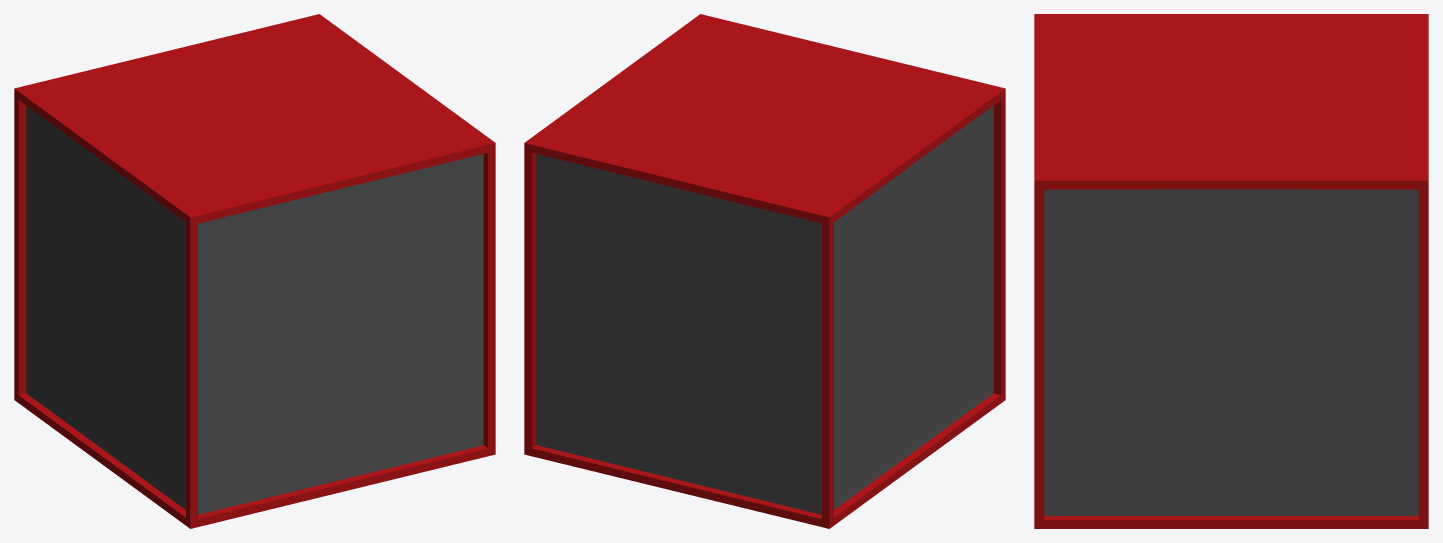
The model's file is machine_tile4.fbx.
The picture shows the model from 3 angles, left to right: view 1: azimuth 30°, elevation 25°; view 2: azimuth 150°, elevation 25°; view 3: azimuth 270°, elevation 25°; orthographic projection. The views are drawn at different scales.
Parts seen in each view (by area): view 1: Mesh; view 2: Mesh; view 3: Mesh.
Part boxes in pixels (bbox=[...]): Mesh: bbox=[14, 14, 495, 528]; Mesh: bbox=[524, 14, 1005, 528]; Mesh: bbox=[1034, 14, 1428, 528].
Size of the model in its own units: 1 by 0.975 by 1.
